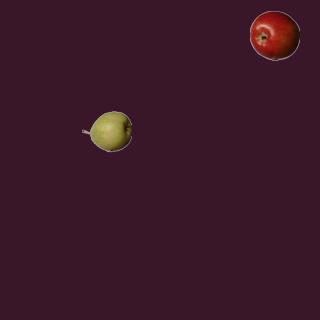Apple Braeburn: (249, 10, 299, 60)
Pear: (81, 106, 131, 156)
